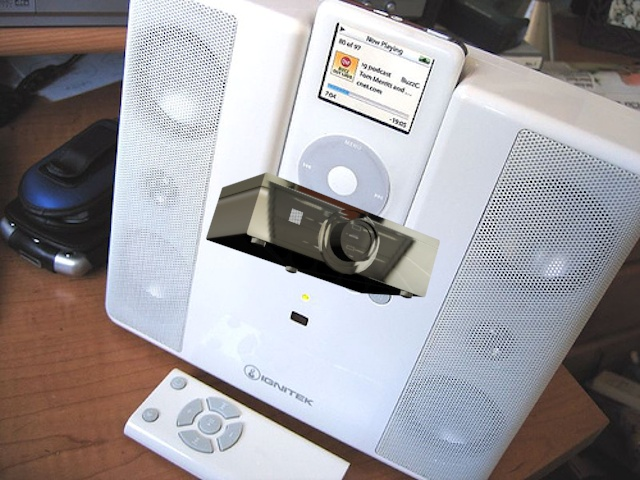projector: (193, 160, 448, 304)
